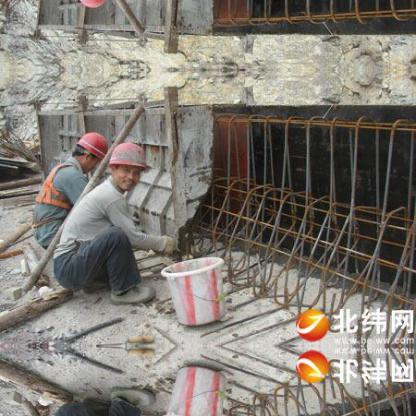Helmet: (102, 138, 148, 190), (69, 127, 109, 168), (68, 0, 110, 10)
